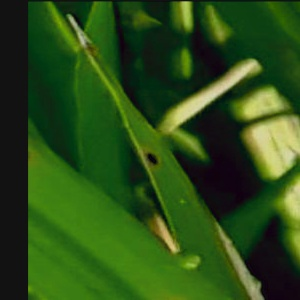Bacterial_Leaf_Blight: (140, 146, 166, 170)
